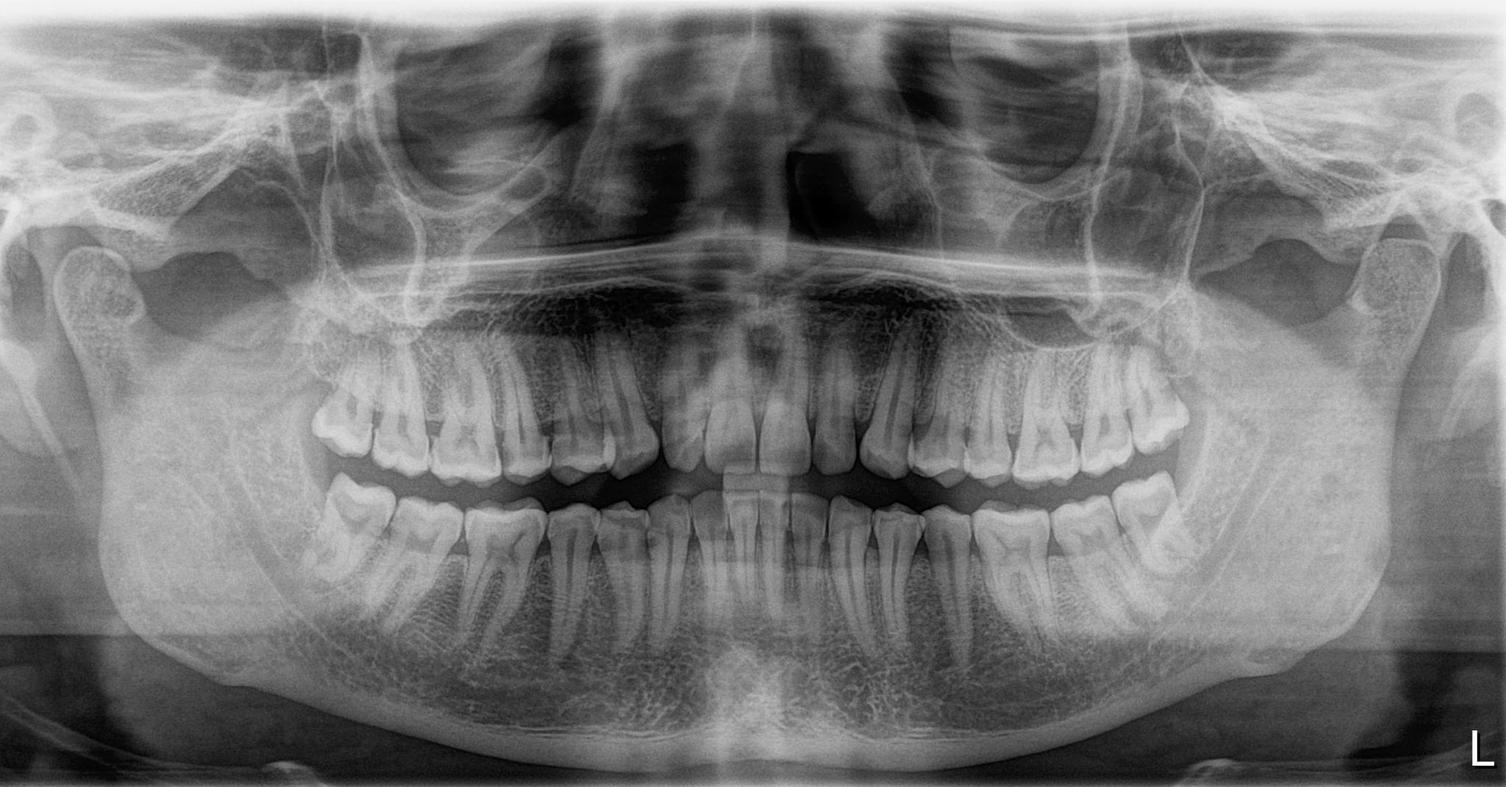Periodontal Pocket: (428, 334, 490, 481), (919, 503, 973, 665), (461, 505, 524, 634), (1063, 507, 1124, 628), (601, 345, 660, 468), (544, 340, 598, 474), (991, 516, 1045, 650), (868, 331, 918, 472), (375, 334, 424, 472), (974, 347, 1021, 480), (393, 502, 448, 615), (928, 342, 971, 480), (318, 479, 373, 582), (314, 338, 363, 453), (502, 344, 545, 475), (540, 513, 586, 635), (717, 336, 758, 472), (831, 505, 868, 653), (1031, 349, 1074, 471), (824, 336, 863, 469), (1127, 344, 1180, 440), (601, 516, 646, 627), (1083, 345, 1124, 462), (778, 334, 814, 466), (879, 518, 914, 646), (669, 342, 704, 469), (697, 503, 730, 637), (794, 509, 826, 641), (658, 502, 689, 635), (763, 518, 793, 624), (734, 514, 758, 624)
